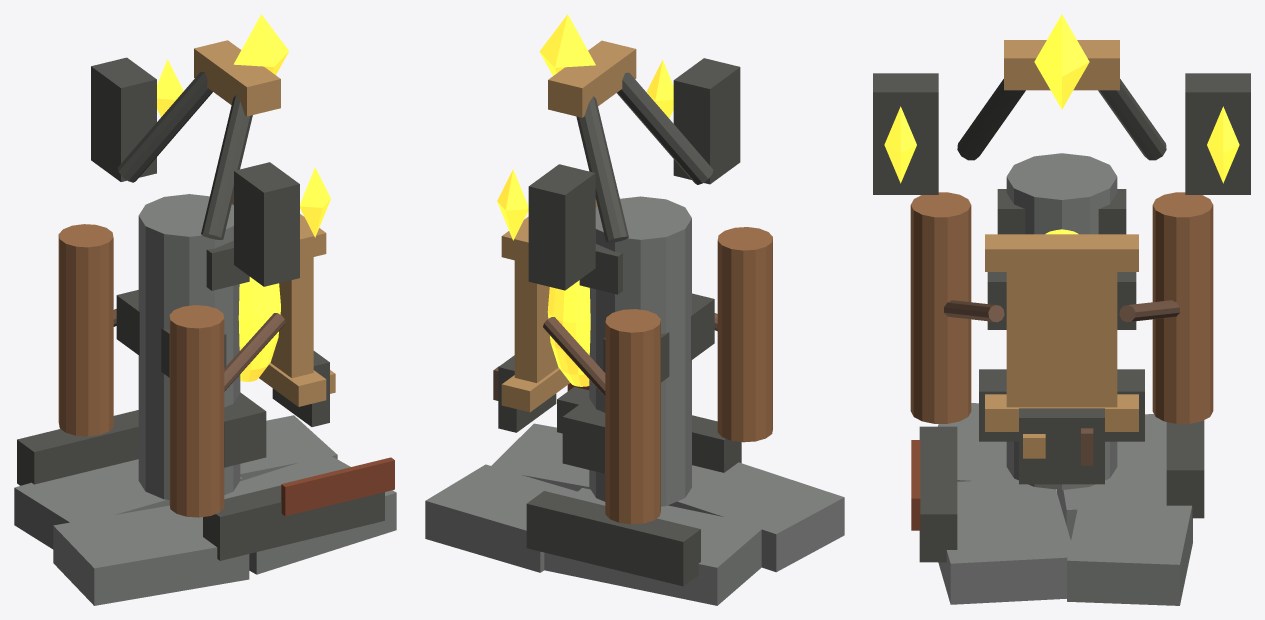
The model's file is SM_OGR_CrudeTekPylon_A01.fbx.
3 renders of one model, left to right at view 1: azimuth 30°, elevation 25°; view 2: azimuth 150°, elevation 25°; view 3: azimuth 270°, elevation 25°, orthographic. The views are drawn at different scales.
Parts seen in each view (by area): view 1: Pylon_Core_StoneColumn_A, Pylon_Base_CairnSlab_01, Pylon_SideTank_Right_CopperPressureVessel, Pylon_SideTank_Left_CopperPressureVessel, Pylon_Base_IronClamp_Front, Pylon_Conductor_Right_IronFork, Pylon_Base_CairnSlab_03, Pylon_Conductor_Left_IronFork, Pylon_Base_IronClamp_Back, Pylon_Base_CairnSlab_02, Pylon_TopArc_BrassBridge, Pylon_Base_WarpaintSlash (+15 smaller); view 2: Pylon_Core_StoneColumn_A, Pylon_SideTank_Left_CopperPressureVessel, Pylon_SideTank_Right_CopperPressureVessel, Pylon_Base_IronClamp_Back, Pylon_Base_CairnSlab_01, Pylon_Base_CairnSlab_04, Pylon_Base_CairnSlab_03, Pylon_Conductor_Left_IronFork, Pylon_Conductor_Right_IronFork, Pylon_TopArc_BrassBridge, Pylon_Core_BrassCage_Vertical, Pylon_Base_CairnSlab_02 (+14 smaller); view 3: Pylon_Core_BrassCage_Vertical, Pylon_Base_CairnSlab_02, Pylon_SideTank_Left_CopperPressureVessel, Pylon_SideTank_Right_CopperPressureVessel, Pylon_Base_CairnSlab_04, Pylon_Core_StoneColumn_A, Pylon_Conductor_Left_IronFork, Pylon_Conductor_Right_IronFork, Pylon_Core_BrassCage_CrossbarTop, Pylon_ServicePanel_Iron, Pylon_Base_IronClamp_Front, Pylon_Base_CairnSlab_03 (+16 smaller).
Part boxes in pixels (x1=…): Pylon_Core_StoneColumn_A: x1=138, y1=194, x2=240, y2=499; Pylon_Base_CairnSlab_01: x1=53, y1=505, x2=249, y2=605; Pylon_SideTank_Right_CopperPressureVessel: x1=169, y1=305, x2=224, y2=517; Pylon_SideTank_Left_CopperPressureVessel: x1=58, y1=224, x2=113, y2=436; Pylon_Base_IronClamp_Front: x1=203, y1=485, x2=384, y2=560; Pylon_Conductor_Right_IronFork: x1=234, y1=162, x2=299, y2=286; Pylon_Base_CairnSlab_03: x1=14, y1=459, x2=242, y2=549; Pylon_Conductor_Left_IronFork: x1=91, y1=57, x2=156, y2=181; Pylon_Base_IronClamp_Back: x1=17, y1=410, x2=138, y2=485; Pylon_Base_CairnSlab_02: x1=224, y1=453, x2=396, y2=574; Pylon_TopArc_BrassBridge: x1=194, y1=40, x2=280, y2=116; Pylon_Base_WarpaintSlash: x1=281, y1=457, x2=394, y2=516; Pylon_Core_StoneColumn_A: x1=589, y1=196, x2=691, y2=506; Pylon_SideTank_Left_CopperPressureVessel: x1=605, y1=309, x2=660, y2=524; Pylon_SideTank_Right_CopperPressureVessel: x1=717, y1=227, x2=772, y2=442; Pylon_Base_IronClamp_Back: x1=526, y1=491, x2=700, y2=586; Pylon_Base_CairnSlab_01: x1=668, y1=462, x2=844, y2=572; Pylon_Base_CairnSlab_04: x1=425, y1=464, x2=577, y2=572; Pylon_Base_CairnSlab_03: x1=544, y1=488, x2=765, y2=605; Pylon_Conductor_Left_IronFork: x1=528, y1=164, x2=595, y2=290; Pylon_Conductor_Right_IronFork: x1=673, y1=58, x2=740, y2=184; Pylon_TopArc_BrassBridge: x1=548, y1=40, x2=636, y2=117; Pylon_Core_BrassCage_Vertical: x1=514, y1=260, x2=558, y2=382; Pylon_Base_CairnSlab_02: x1=488, y1=423, x2=590, y2=491; Pylon_Core_BrassCage_Vertical: x1=1006, y1=272, x2=1117, y2=407; Pylon_Base_CairnSlab_02: x1=938, y1=479, x2=1070, y2=604; Pylon_SideTank_Left_CopperPressureVessel: x1=1152, y1=192, x2=1213, y2=423; Pylon_SideTank_Right_CopperPressureVessel: x1=910, y1=192, x2=971, y2=423; Pylon_Base_CairnSlab_04: x1=1067, y1=497, x2=1192, y2=605; Pylon_Core_StoneColumn_A: x1=1006, y1=153, x2=1117, y2=489; Pylon_Conductor_Left_IronFork: x1=1185, y1=73, x2=1250, y2=194; Pylon_Conductor_Right_IronFork: x1=873, y1=73, x2=938, y2=194; Pylon_Core_BrassCage_CrossbarTop: x1=985, y1=234, x2=1138, y2=271; Pylon_ServicePanel_Iron: x1=1019, y1=408, x2=1104, y2=484; Pylon_Base_IronClamp_Front: x1=919, y1=426, x2=957, y2=562; Pylon_Base_CairnSlab_03: x1=1056, y1=414, x2=1185, y2=539.
Size of what is drawn, in the model's own units: 30000 by 30710 by 47800.
